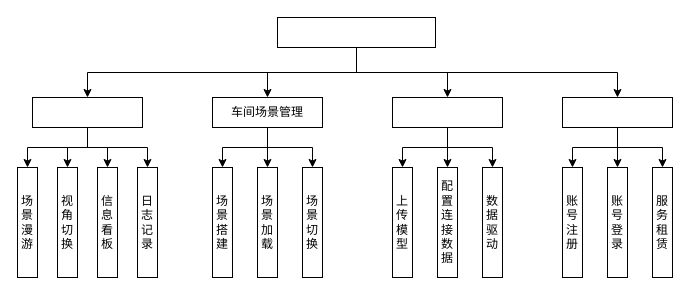
This 690x295 diagram has some shape labels left out. The box of each missing label's shape, as (x1, y1, x2, y2) in pixels:
模型配置管理: (392, 96, 502, 128)
用户管理: (562, 96, 672, 128)
系统服务功能: (276, 16, 436, 48)
车间监控管理: (32, 96, 142, 128)
